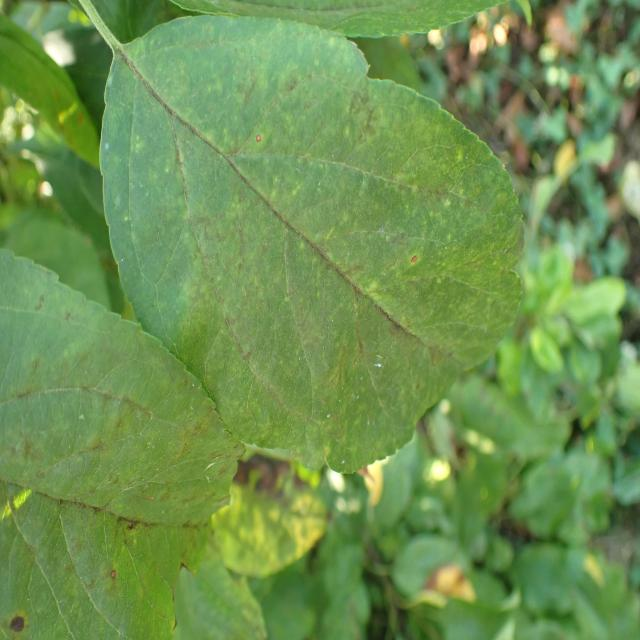scab: (111, 50, 516, 446), (0, 252, 269, 640), (128, 0, 494, 39)
